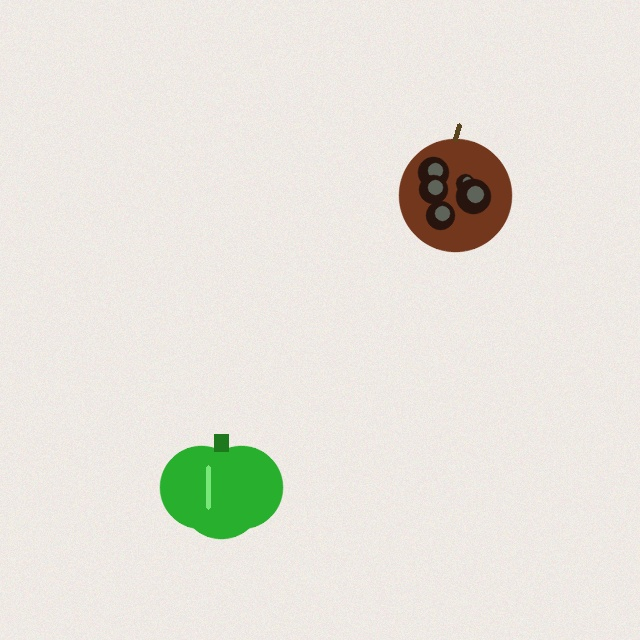Fresh bell pepper: (160, 434, 282, 538)
Rotten apple: (399, 125, 511, 251)
